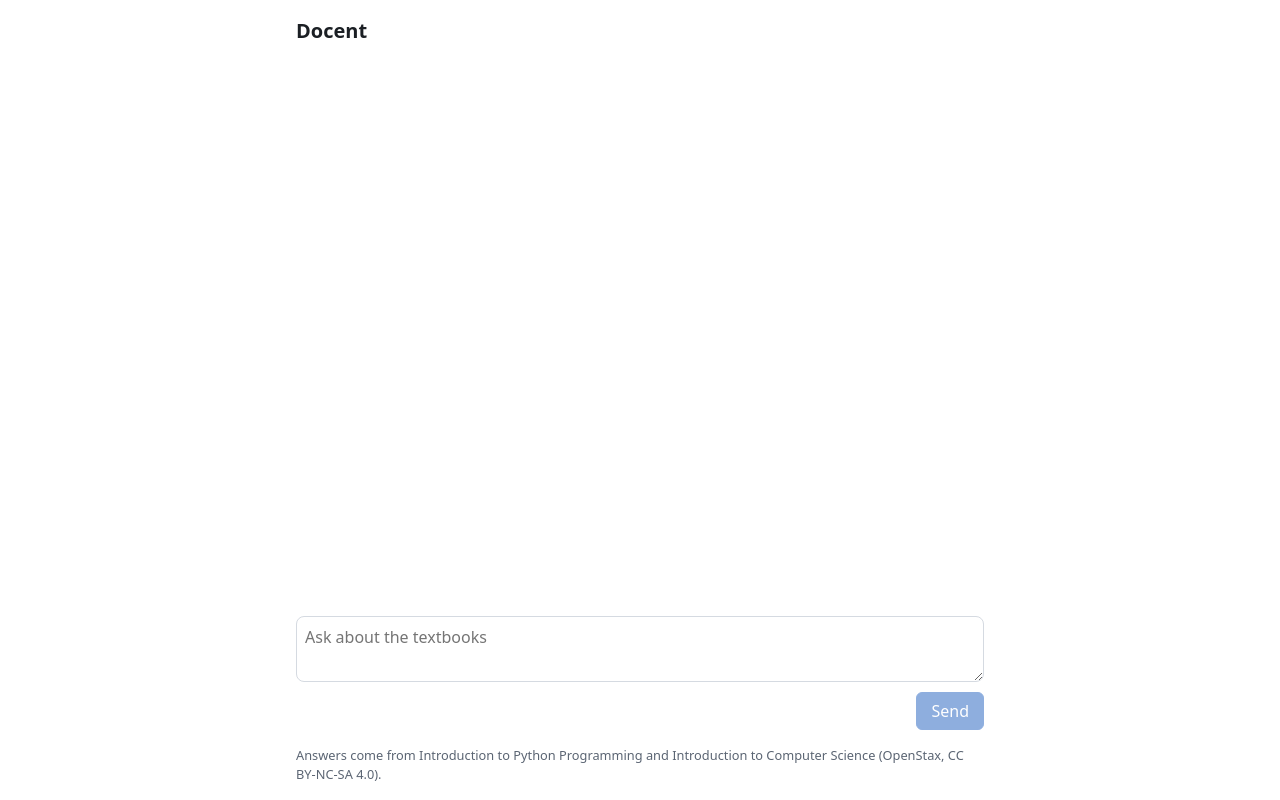
answered › opens the matching passage and highlights cited text
Type "How does precedence work?" into the text box named "Question". click: (640,649)
box: [296,616,984,682]
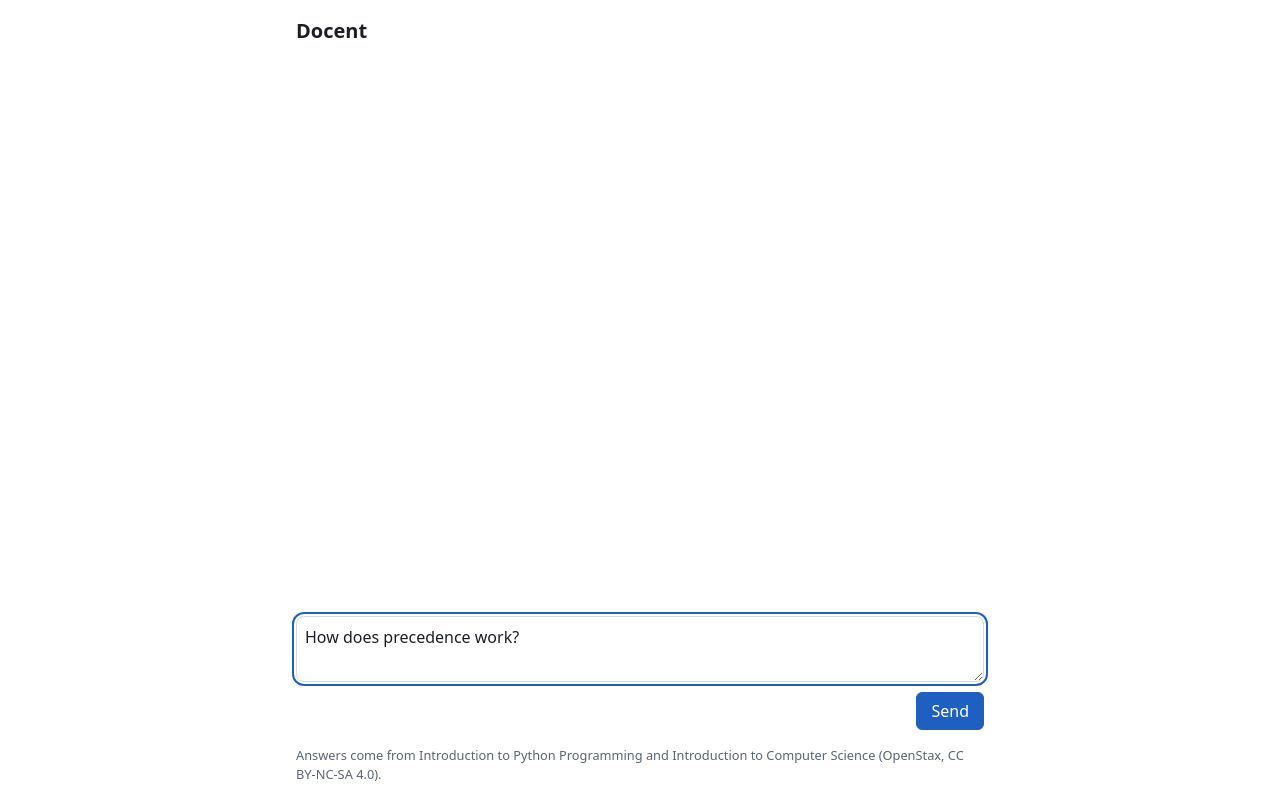
Press Enter
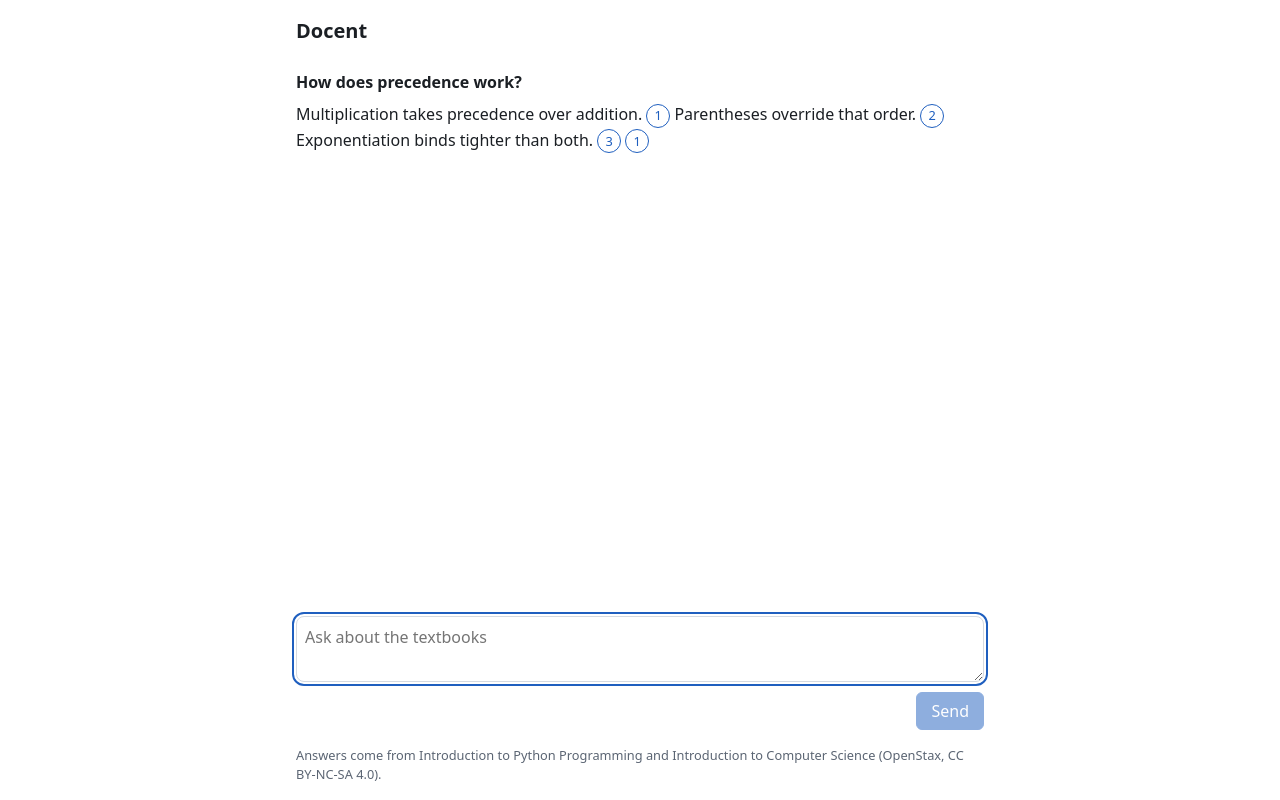
Click the button named "Source 2:". click: (932,116)
box: [920,104,944,128]
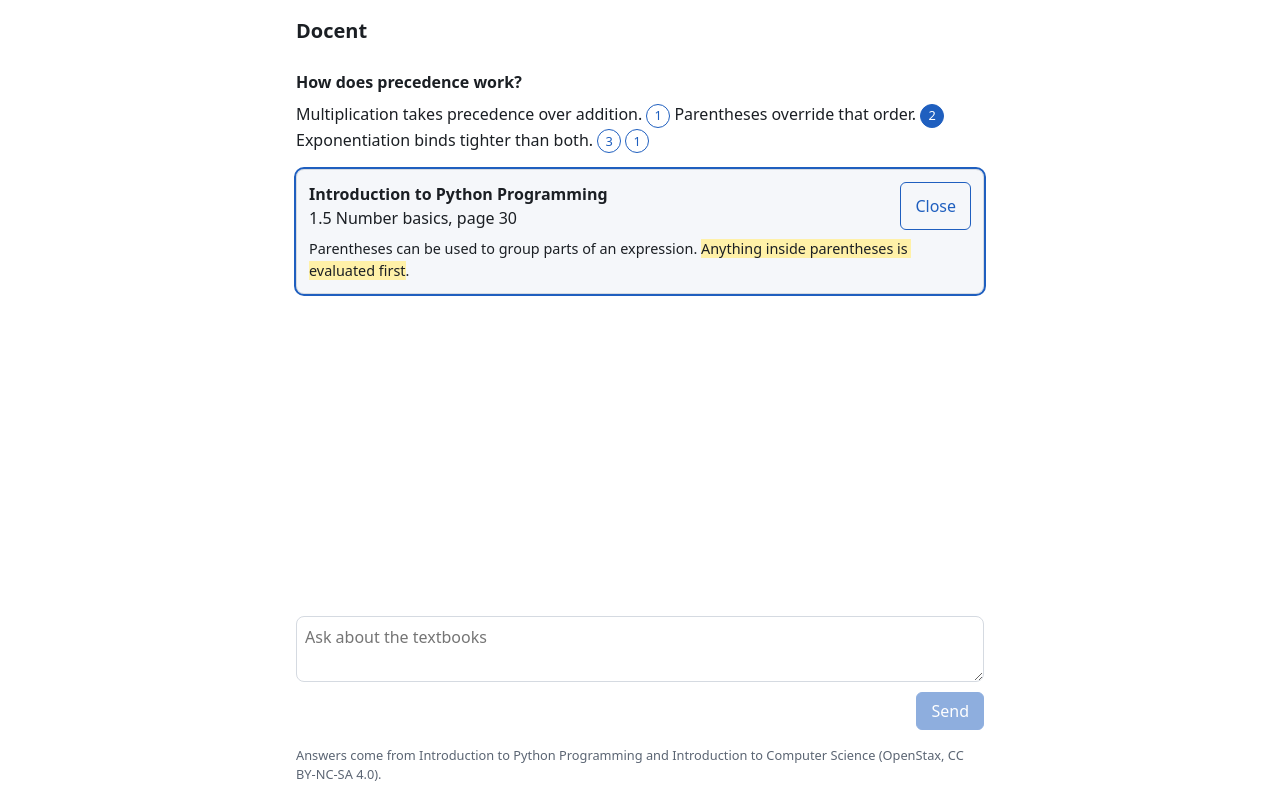
Check: the text "Introduction to Python Programming" is shown, box [309,183,608,205]
Check: the text "Anything inside parentheses is evaluated first" is shown, box [309,239,912,280]
